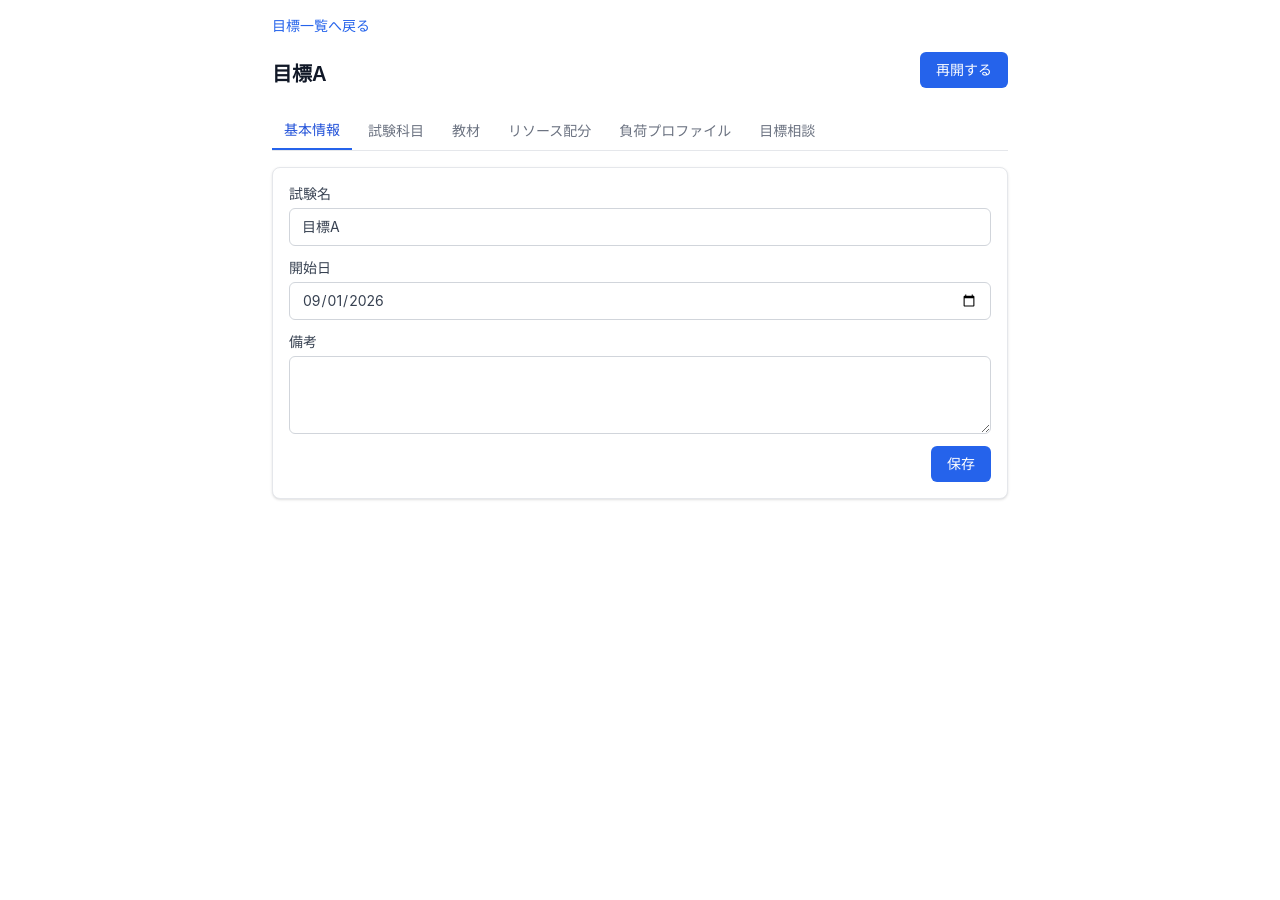
Test case: GoalDetailPage の状態遷移 › falls back to the generic error for any other refusal
What coordinates should you click on to do the following:
click the button "再開する"
I would click on:
 (964, 70)
Its box is [920,52,1008,88].
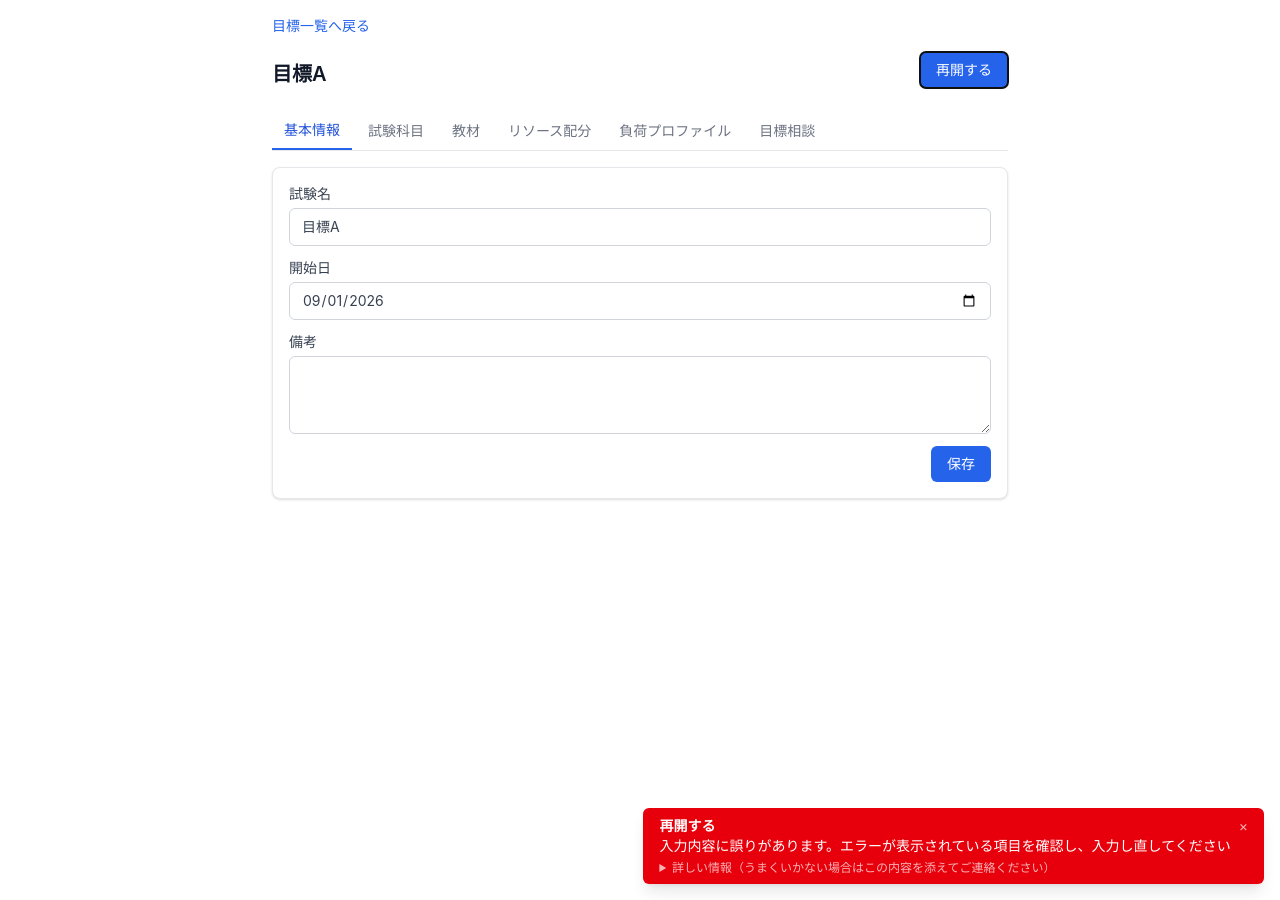
expect the text "入力内容に誤りがあります。エラーが表示されている項目を確認し、入力し直してください" is shown: met, box [659,836,1231,856]
